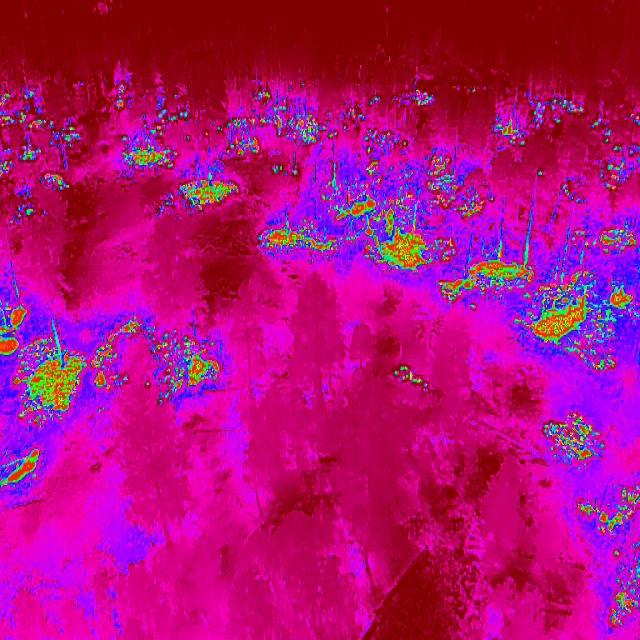fire: (320, 150, 488, 276), (0, 304, 141, 428), (0, 73, 80, 232), (521, 272, 639, 374), (215, 82, 341, 174), (576, 476, 640, 636), (111, 75, 200, 185), (142, 319, 240, 415), (470, 84, 616, 148), (438, 235, 541, 315), (534, 404, 608, 474), (257, 219, 346, 269), (336, 103, 412, 161), (574, 207, 640, 267), (176, 170, 240, 216), (597, 143, 640, 206), (0, 444, 47, 494), (392, 85, 441, 114), (394, 357, 429, 395), (624, 101, 640, 130)
